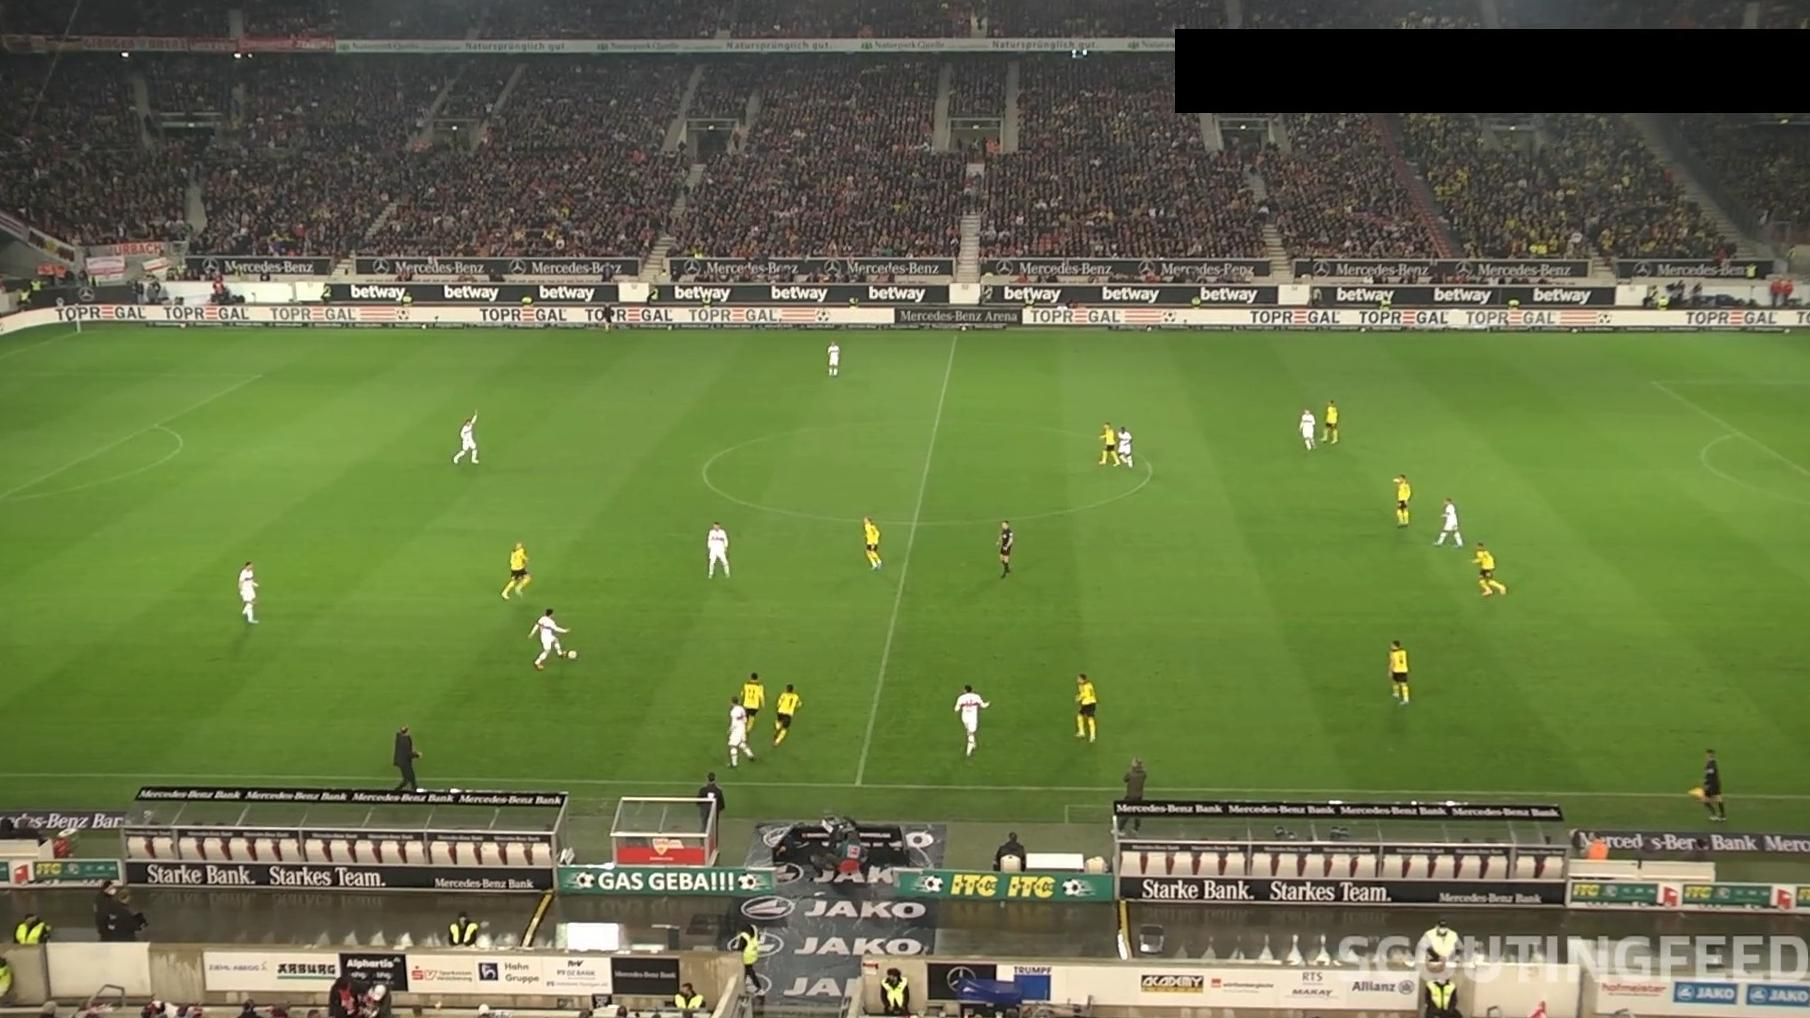ball: (567, 649, 579, 661)
